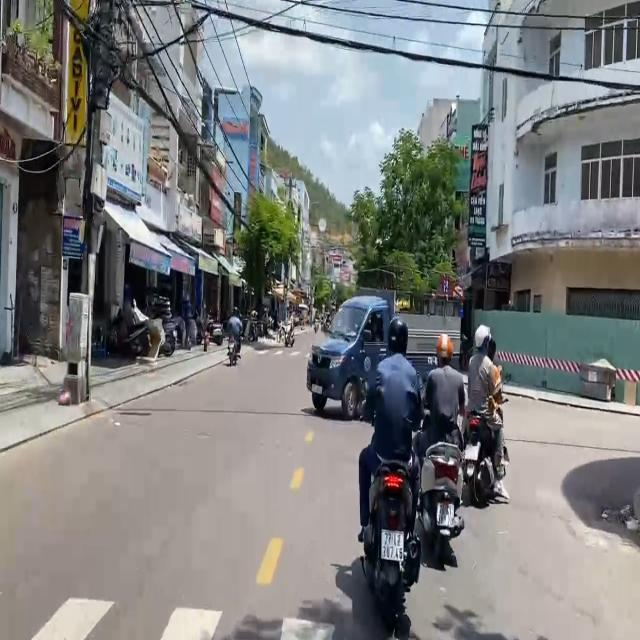walk-crossing: (0, 588, 356, 640)
